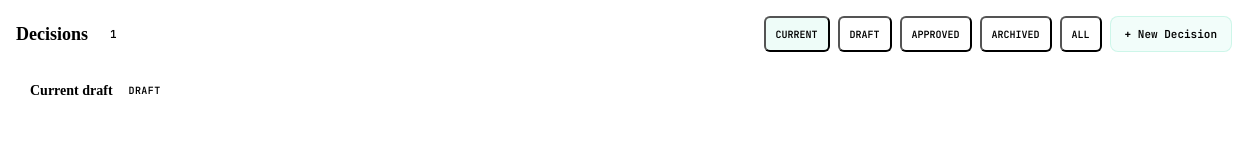
it: keeps archived records available behind an explicit filter while current decisions are the default
Expected: the text "Current draft" is shown, [30,82,113,98]
Expected: the text "Archived QA record" is not shown
Click the button "archived". click: click(1016, 34)
box: [980,16,1052,52]
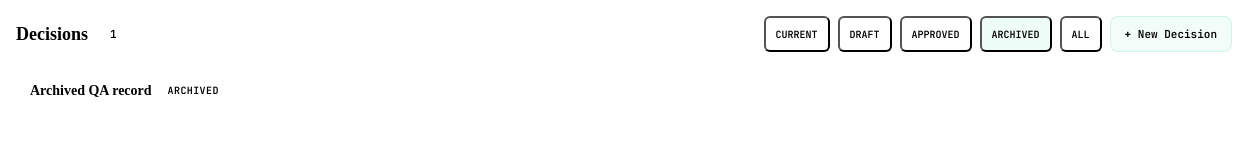
Now the text "Archived QA record" is shown, box [30,82,152,98]
